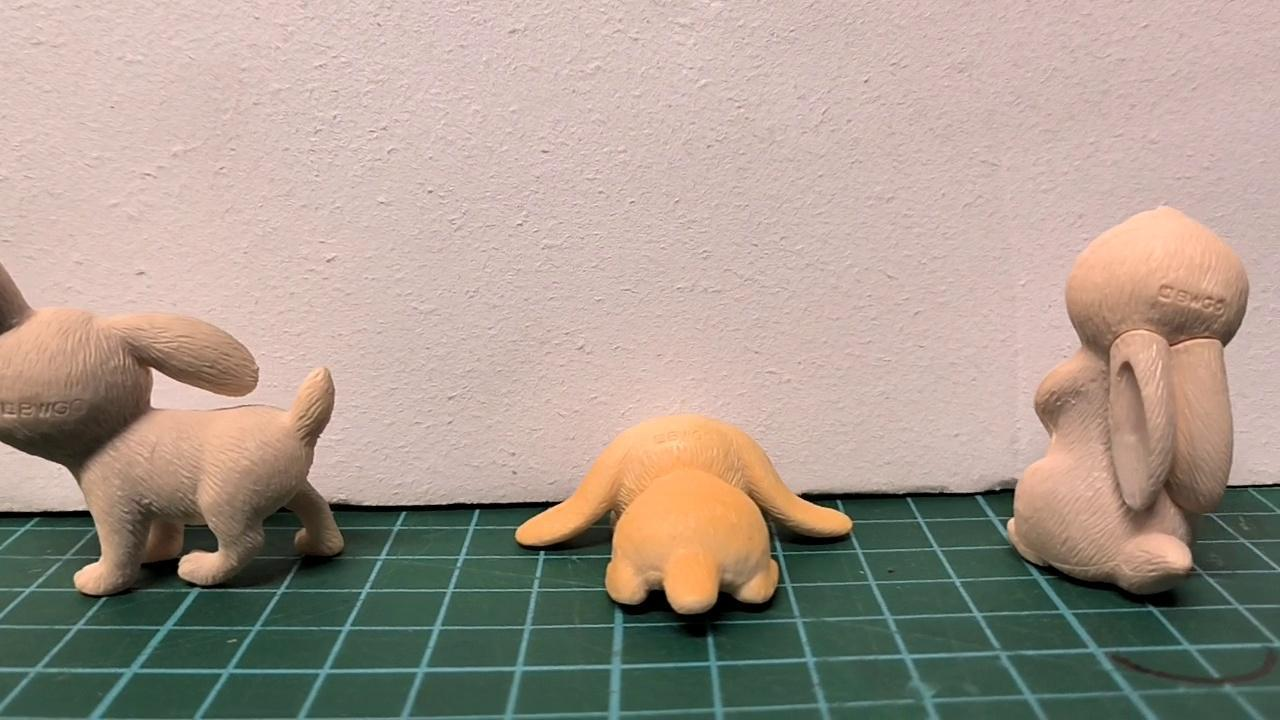pet: (0, 262, 344, 597), (1005, 203, 1247, 594), (513, 413, 853, 619)
